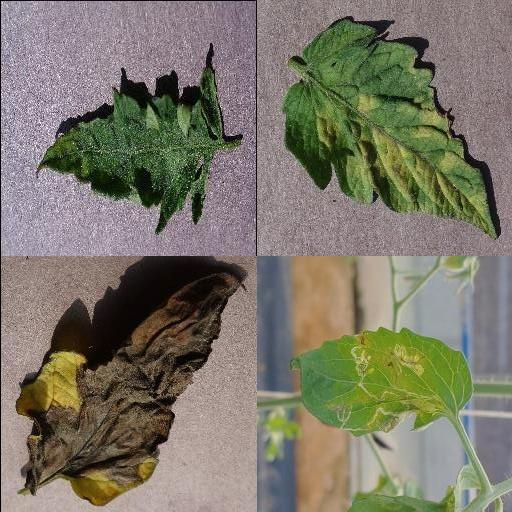Late Blight: (14, 272, 248, 508)
Leaf Miner: (289, 326, 473, 438)
Leaf Mold: (278, 18, 500, 238)
Mosaic Virus: (34, 64, 224, 238)
